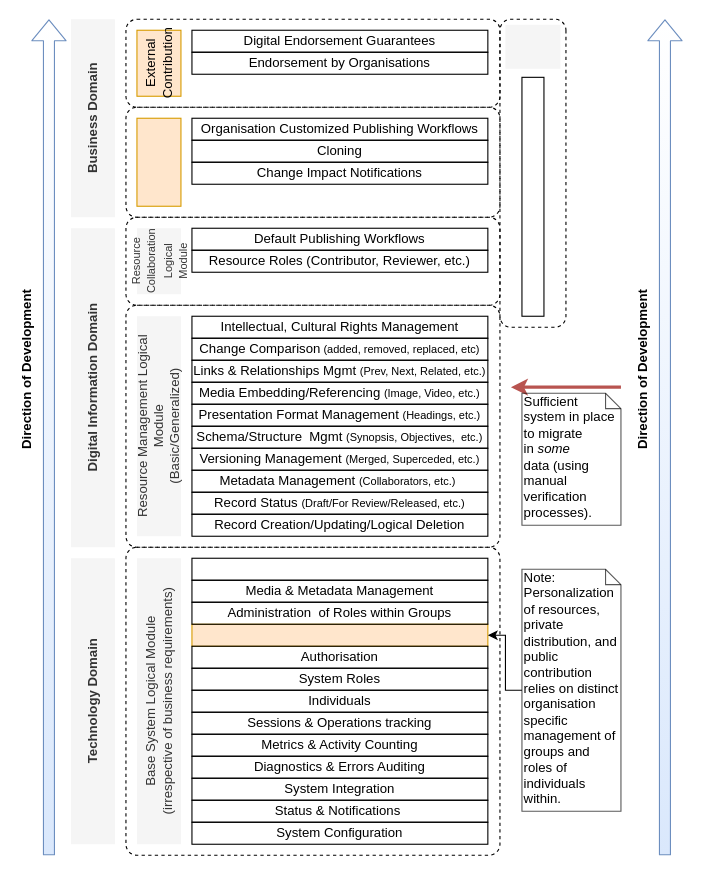
This 701x875 diagram has some shape labels left out. Each missing label, with the box of its shape:
Distinct Organisations & their Groups: (191, 623, 488, 646)
Private Personalization: (136, 117, 181, 206)
Public Consumer Feedback: (521, 76, 544, 316)
Resource Feedback Mgmt: (505, 24, 560, 68)
Search: (191, 557, 488, 580)
